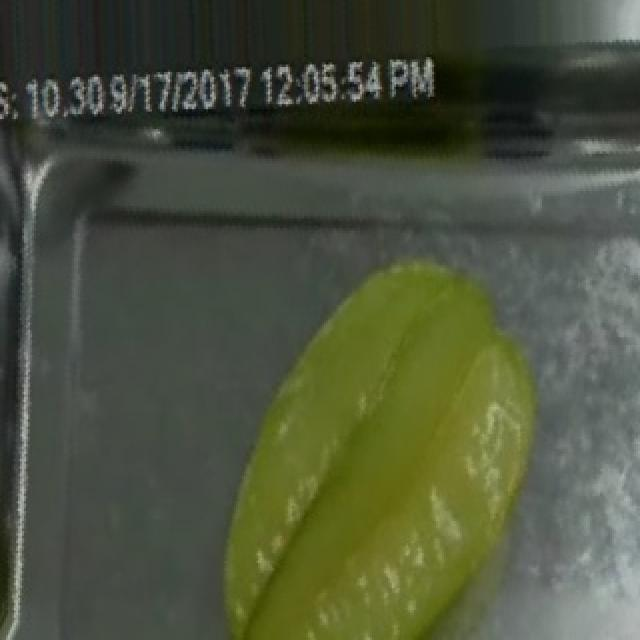fruit: (234, 216, 576, 640)
